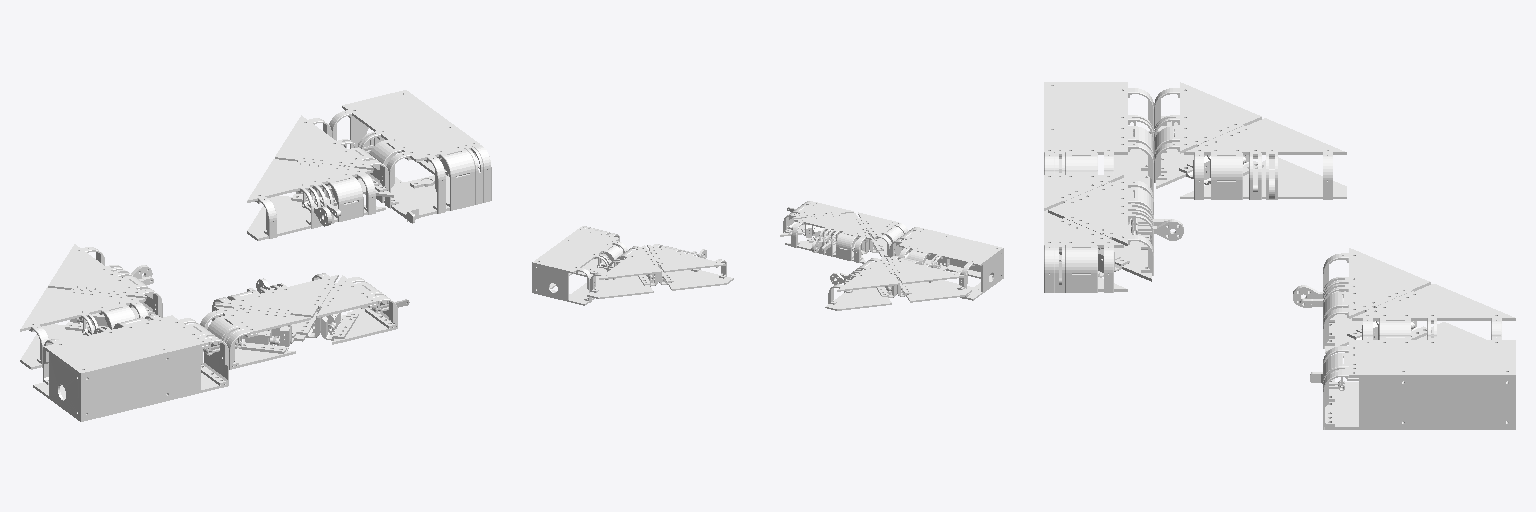
--- What the picture shows (computed from the rendered views, not written in the file) ---
Views: 3 orthographic renders of the robot side by side, from view 1: azimuth 30°, elevation 25°; view 2: azimuth 150°, elevation 25°; view 3: azimuth 270°, elevation 25°.
Robot: oscar — 23 links, 22 joints (22 continuous); root link base_link; default pose: every joint at zero.
Links seen in each view (by area): view 1: rectangle_link_2, rectangle_link_1, Big_triangle_link, Non_acut_triangle_4, Non_acut_triangle_3, Non_acut_triangle_2, Non_acut_triangle_1, Big_triangle_link_2, Big_triangle_link_3; view 2: rectangle_link_1, rectangle_link_2, Big_triangle_link_2, Big_triangle_link_3, Non_acut_triangle_1, Big_triangle_link, Non_acut_triangle_4, Non_acut_triangle_3, Non_acut_triangle_2; view 3: rectangle_link_1, rectangle_link_2, Big_triangle_link_3, Big_triangle_link_2, Non_acut_triangle_4, Big_triangle_link, Non_acut_triangle_1, Non_acut_triangle_2, Non_acut_triangle_3, link_pair_2, link_pair_1.
Boxes of the visible links, x1,y1,x2,y2 form: rectangle_link_2: [33, 314, 228, 421]; rectangle_link_1: [329, 90, 491, 223]; Big_triangle_link: [247, 159, 385, 240]; Non_acut_triangle_4: [20, 287, 147, 369]; Non_acut_triangle_3: [200, 306, 310, 369]; Non_acut_triangle_2: [317, 275, 397, 344]; Non_acut_triangle_1: [275, 115, 393, 197]; Big_triangle_link_2: [208, 273, 338, 343]; Big_triangle_link_3: [48, 244, 162, 318]; rectangle_link_1: [532, 226, 627, 305]; rectangle_link_2: [890, 227, 1003, 300]; Big_triangle_link_2: [785, 213, 871, 263]; Big_triangle_link_3: [825, 257, 899, 310]; Non_acut_triangle_1: [587, 245, 661, 298]; Big_triangle_link: [647, 244, 733, 290]; Non_acut_triangle_4: [886, 256, 971, 302]; Non_acut_triangle_3: [858, 212, 907, 260]; Non_acut_triangle_2: [780, 201, 853, 236]; rectangle_link_1: [1310, 335, 1515, 429]; rectangle_link_2: [1044, 82, 1153, 214]; Big_triangle_link_3: [1180, 118, 1346, 199]; Big_triangle_link_2: [1048, 176, 1153, 281]; Non_acut_triangle_4: [1154, 82, 1261, 188]; Big_triangle_link: [1323, 248, 1430, 353]; Non_acut_triangle_1: [1352, 284, 1515, 339]; Non_acut_triangle_2: [1044, 211, 1127, 292]; Non_acut_triangle_3: [1044, 170, 1123, 212]; link_pair_2: [1131, 219, 1183, 240]; link_pair_1: [1293, 285, 1343, 307].
Bounding box of the posed robot: 0.6665 × 0.4525 × 0.063 m (x, y, z).
Meshes: 23 distinct files referenced, 20 mesh visuals loaded (20 binary STL); not drawn: 3 (reference not matched to a file when rendering).

URDF robot description (oscar):
<?xml version="1.0" encoding="utf-8"?>
<!-- This URDF was automatically created by SolidWorks to URDF Exporter! Originally created by Stephen Brawner ([email redacted]) 
     Commit Version: 1.6.0-4-g7f85cfe  Build Version: 1.6.7995.38578
     For more information, please see http://wiki.ros.org/sw_urdf_exporter -->
<robot
  name="oscar">
  <link
    name="base_link">
    <inertial>
      <origin
        xyz="0.00196170680937007 -0.0309340370914813 0.0868228015469566"
        rpy="0 0 0" />
      <mass
        value="0.458411450979246" />
      <inertia
        ixx="0.000542871589384656"
        ixy="9.16830524623752E-08"
        ixz="-1.69749191833194E-07"
        iyy="0.00108671668484761"
        iyz="3.00802775983817E-06"
        izz="0.000657663684621468" />
    </inertial>
    <visual>
      <origin
        xyz="0 0 0"
        rpy="0 0 0" />
      <geometry>
        <mesh
          filename="package://oscar/meshes/base_link.STL" />
      </geometry>
      <material
        name="">
        <color
          rgba="1 1 1 1" />
      </material>
    </visual>
    <collision>
      <origin
        xyz="0 0 0"
        rpy="0 0 0" />
      <geometry>
        <mesh
          filename="package://oscar/meshes/base_link.STL" />
      </geometry>
    </collision>
  </link>
  
  <link
    name="right_wheel_link">
    <inertial>
      <origin
        xyz="-0.00784940612576867 4.28642898509662E-05 -9.31058257116688E-06"
        rpy="0 0 0" />
      <mass
        value="0.0274335863022573" />
      <inertia
        ixx="1.13862377406955E-05"
        ixy="-4.63211245290857E-15"
        ixz="9.35749929848442E-15"
        iyy="6.00789413976309E-06"
        iyz="-1.82633067451514E-08"
        izz="6.02049780409006E-06" />
    </inertial>
    <visual>
      <origin
        xyz="0 0 0"
        rpy="0 0 0" />
      <geometry>
        <mesh
          filename="package://oscar/meshes/right_wheel_link.STL" />
      </geometry>
      <material
        name="">
        <color
          rgba="1 1 1 1" />
      </material>
    </visual>
    <collision>
      <origin
        xyz="0 0 0"
        rpy="0 0 0" />
      <geometry>
        <mesh
          filename="package://oscar/meshes/right_wheel_link.STL" />
      </geometry>
    </collision>
  </link>
  <joint
    name="right_wheel_link_joint"
    type="continuous">
    <origin
      xyz="0.0586 -0.08 -0.035"
      rpy="2.7498 0 3.1416" />
    <parent
      link="base_link" />
    <child
      link="right_wheel_link" />
    <axis
      xyz="1 0 0" />
  </joint>
  <link
    name="left_wheel_link">
    <inertial>
      <origin
        xyz="-0.00784940612576874 4.28642898509315E-05 -9.31058257165607E-06"
        rpy="0 0 0" />
      <mass
        value="0.0274335863022572" />
      <inertia
        ixx="1.13862377406954E-05"
        ixy="-4.63212897840488E-15"
        ixz="9.3575734558632E-15"
        iyy="6.00789413976302E-06"
        iyz="-1.82633067450595E-08"
        izz="6.02049780409007E-06" />
    </inertial>
    <visual>
      <origin
        xyz="0 0 0"
        rpy="0 0 0" />
      <geometry>
        <mesh
          filename="package://oscar/meshes/left_wheel_link.STL" />
      </geometry>
      <material
        name="">
        <color
          rgba="1 1 1 1" />
      </material>
    </visual>
    <collision>
      <origin
        xyz="0 0 0"
        rpy="0 0 0" />
      <geometry>
        <mesh
          filename="package://oscar/meshes/left_wheel_link.STL" />
      </geometry>
    </collision>
  </link>
  <joint
    name="left_wheel_link_joint"
    type="continuous">
    <origin
      xyz="-0.0586 -0.08 -0.035"
      rpy="1.5708 0 0" />
    <parent
      link="base_link" />
    <child
      link="left_wheel_link" />
    <axis
      xyz="1 0 0" />
  </joint>
  <link
    name="link_pair_1">
    <inertial>
      <origin
        xyz="-0.00777707031504635 -0.00253046990606669 0.0559914509294892"
        rpy="0 0 0" />
      <mass
        value="0.00369780273035826" />
      <inertia
        ixx="6.11514536437227E-08"
        ixy="-1.60468334607999E-24"
        ixz="-3.76611431713986E-24"
        iyy="6.25046675936162E-07"
        iyz="-7.79660337318471E-25"
        izz="6.70790618203392E-07" />
    </inertial>
    <visual>
      <origin
        xyz="0 0 0"
        rpy="0 0 0" />
      <geometry>
        <mesh
          filename="package://oscar/meshes/link_pair_1.STL" />
      </geometry>
      <material
        name="">
        <color
          rgba="1 1 1 1" />
      </material>
    </visual>
    <collision>
      <origin
        xyz="0 0 0"
        rpy="0 0 0" />
      <geometry>
        <mesh
          filename="package://oscar/meshes/link_pair_1.STL" />
      </geometry>
    </collision>
  </link>
  <joint
    name="link_pair_1_joint"
    type="continuous">
    <origin
      xyz="0.107 -0.0215 -0.01547"
      rpy="1.5708 0 1.5708" />
    <parent
      link="base_link" />
    <child
      link="link_pair_1" />
    <axis
      xyz="0 0 1" />
  </joint>
  <link
    name="Big_triangle_link">
    <inertial>
      <origin
        xyz="0.0195755407568846 -0.00236613837658626 0.0660089523015064"
        rpy="0 0 0" />
      <mass
        value="0.074547880950281" />
      <inertia
        ixx="5.43833714550981E-05"
        ixy="-1.64485303519002E-06"
        ixz="1.46443358252426E-06"
        iyy="6.94150724784236E-05"
        iyz="-7.55460274979408E-07"
        izz="2.41737178555845E-05" />
    </inertial>
    <visual>
      <origin
        xyz="0 0 0"
        rpy="0 0 0" />
      <geometry>
        <mesh
          filename="package://oscar/meshes/Big_triangle_link.STL" />
      </geometry>
      <material
        name="">
        <color
          rgba="1 1 1 1" />
      </material>
    </visual>
    <collision>
      <origin
        xyz="0 0 0"
        rpy="0 0 0" />
      <geometry>
        <mesh
          filename="package://oscar/meshes/Big_triangle_link.STL" />
      </geometry>
    </collision>
  </link>
  <joint
    name="Big_triangle_link_joint"
    type="continuous">
    <origin
      xyz="0.016496 -0.0025305 0"
      rpy="0.0087266 0 0" />
    <parent
      link="link_pair_1" />
    <child
      link="Big_triangle_link" />
    <axis
      xyz="0 0.0087265 0.99996" />
  </joint>
  <link
    name="Link_1">
    <inertial>
      <origin
        xyz="0.00925000000000001 -1.11022302462516E-16 1.38777878078145E-17"
        rpy="0 0 0" />
      <mass
        value="0.000418829254091884" />
      <inertia
        ixx="1.72374656454096E-09"
        ixy="2.14126850100495E-22"
        ixz="1.83013710527357E-23"
        iyy="2.05758913679062E-08"
        iyz="-1.72606950474182E-25"
        izz="2.16713940513094E-08" />
    </inertial>
    <visual>
      <origin
        xyz="0 0 0"
        rpy="0 0 0" />
      <geometry>
        <mesh
          filename="package://oscar/meshes/Link_1.STL" />
      </geometry>
      <material
        name="">
        <color
          rgba="0.858823529411765 0.858823529411765 0.858823529411765 0.1" />
      </material>
    </visual>
    <collision>
      <origin
        xyz="0 0 0"
        rpy="0 0 0" />
      <geometry>
        <mesh
          filename="package://oscar/meshes/Link_1.STL" />
      </geometry>
    </collision>
  </link>
  <joint
    name="Link_1_joint"
    type="continuous">
    <origin
      xyz="0.051256 -0.011291 0.081264"
      rpy="-0.012341 -0.78536 0.0087263" />
    <parent
      link="Big_triangle_link" />
    <child
      link="Link_1" />
    <axis
      xyz="0 0 1" />
  </joint>
  <link
    name="Non_acut_triangle_1">
    <inertial>
      <origin
        xyz="0.0309192435459112 0.00878668880203192 -0.0148475592469523"
        rpy="0 0 0" />
      <mass
        value="0.0721297540054504" />
      <inertia
        ixx="5.39632726368139E-05"
        ixy="1.56283388931883E-06"
        ixz="-1.44322942163294E-06"
        iyy="6.91067908994079E-05"
        iyz="5.0215436817508E-08"
        izz="2.3503289928344E-05" />
    </inertial>
    <visual>
      <origin
        xyz="0 0 0"
        rpy="0 0 0" />
      <geometry>
        <mesh
          filename="package://oscar/meshes/Non_acut_triangle_1.STL" />
      </geometry>
      <material
        name="">
        <color
          rgba="1 1 1 1" />
      </material>
    </visual>
    <collision>
      <origin
        xyz="0 0 0"
        rpy="0 0 0" />
      <geometry>
        <mesh
          filename="package://oscar/meshes/Non_acut_triangle_1.STL" />
      </geometry>
    </collision>
  </link>
  <joint
    name="Non_acut_triangle_1_joint"
    type="continuous">
    <origin
      xyz="0.0185 0 0"
      rpy="-0.017452 -0.78528 0.01234" />
    <parent
      link="Link_1" />
    <child
      link="Non_acut_triangle_1" />
    <axis
      xyz="0.70703 -0.012341 0.70708" />
  </joint>
  <link
    name="link_4">
    <inertial>
      <origin
        xyz="0.01825 -2.23269701338236E-11 0.00150000000000047"
        rpy="0 0 0" />
      <mass
        value="0.000742829254091884" />
      <inertia
        ixx="2.93874656454096E-09"
        ixy="-1.39942092111541E-19"
        ixz="2.68517664114025E-22"
        iyy="1.08501881755647E-07"
        iyz="-2.71872069157362E-17"
        izz="1.1032638443905E-07" />
    </inertial>
    <visual>
      <origin
        xyz="0 0 0"
        rpy="0 0 0" />
      <geometry>
        <mesh
          filename="package://oscar/meshes/link_4.STL" />
      </geometry>
      <material
        name="">
        <color
          rgba="0.858823529411765 0.858823529411765 0.858823529411765 0.1" />
      </material>
    </visual>
    <collision>
      <origin
        xyz="0 0 0"
        rpy="0 0 0" />
      <geometry>
        <mesh
          filename="package://oscar/meshes/link_4.STL" />
      </geometry>
    </collision>
  </link>
  <joint
    name="link_4_joint"
    type="continuous">
    <origin
      xyz="0.05136 0.011736 -0.021057"
      rpy="-3.1329 0 -0.0087266" />
    <parent
      link="Non_acut_triangle_1" />
    <child
      link="link_4" />
    <axis
      xyz="0 0 1" />
  </joint>
  <link
    name="rectangle_link_1">
    <inertial>
      <origin
        xyz="-0.0451999417729934 -0.00990676293318141 0.011263644853522"
        rpy="0 0 0" />
      <mass
        value="0.164023892383727" />
      <inertia
        ixx="0.000289386199645965"
        ixy="-3.43537232454045E-06"
        ixz="-1.71295548901095E-06"
        iyy="9.4604969825702E-05"
        iyz="1.74658343347169E-06"
        izz="0.000341456068141042" />
    </inertial>
    <visual>
      <origin
        xyz="0 0 0"
        rpy="0 0 0" />
      <geometry>
        <mesh
          filename="package://oscar/meshes/rectangle_link_1.STL" />
      </geometry>
      <material
        name="">
        <color
          rgba="1 1 1 1" />
      </material>
    </visual>
    <collision>
      <origin
        xyz="0 0 0"
        rpy="0 0 0" />
      <geometry>
        <mesh
          filename="package://oscar/meshes/rectangle_link_1.STL" />
      </geometry>
    </collision>
  </link>
  <joint
    name="rectangle_link_1_joint"
    type="continuous">
    <origin
      xyz="0.0365 0 0"
      rpy="1.5708 0 3.1416" />
    <parent
      link="link_4" />
    <child
      link="rectangle_link_1" />
    <axis
      xyz="0 1 0" />
  </joint>
  <link
    name="link_pair_2">
    <inertial>
      <origin
        xyz="0.0122273760193164 -1.88078719265405E-14 0.00250854907051089"
        rpy="0 0 0" />
      <mass
        value="0.00369780273035827" />
      <inertia
        ixx="6.11514536437228E-08"
        ixy="8.67251503540343E-19"
        ixz="6.2865289778006E-23"
        iyy="6.25046675936164E-07"
        iyz="-5.00447724709524E-24"
        izz="6.70790618203394E-07" />
    </inertial>
    <visual>
      <origin
        xyz="0 0 0"
        rpy="0 0 0" />
      <geometry>
        <mesh
          filename="package://oscar/meshes/link_pair_2.STL" />
      </geometry>
      <material
        name="">
        <color
          rgba="1 1 1 1" />
      </material>
    </visual>
    <collision>
      <origin
        xyz="0 0 0"
        rpy="0 0 0" />
      <geometry>
        <mesh
          filename="package://oscar/meshes/link_pair_2.STL" />
      </geometry>
    </collision>
  </link>
  <joint
    name="link_pair_2_joint"
    type="continuous">
    <origin
      xyz="0 -0.167 -0.018"
      rpy="-1.5708 0 -1.5708" />
    <parent
      link="base_link" />
    <child
      link="link_pair_2" />
    <axis
      xyz="0 0 1" />
  </joint>
  <link
    name="Big_triangle_link_2">
    <inertial>
      <origin
        xyz="0.0223421497135244 0.00326069237224125 0.00268541721023781"
        rpy="0 0 0" />
      <mass
        value="0.0834635434624062" />
      <inertia
        ixx="4.56673953012276E-05"
        ixy="-6.35604825028415E-08"
        ixz="2.01812979626431E-06"
        iyy="2.18500355396937E-05"
        iyz="2.10494845425372E-21"
        izz="5.43856488817236E-05" />
    </inertial>
    <visual>
      <origin
        xyz="0 0 0"
        rpy="0 0 0" />
      <geometry>
        <mesh
          filename="package://oscar/meshes/Big_triangle_link_2.STL" />
      </geometry>
      <material
        name="">
        <color
          rgba="1 1 1 1" />
      </material>
    </visual>
    <collision>
      <origin
        xyz="0 0 0"
        rpy="0 0 0" />
      <geometry>
        <mesh
          filename="package://oscar/meshes/Big_triangle_link_2.STL" />
      </geometry>
    </collision>
  </link>
  <joint
    name="Big_triangle_link_2_joint"
    type="continuous">
    <origin
      xyz="0.0365 0 0"
      rpy="-1.5708 0 0" />
    <parent
      link="link_pair_2" />
    <child
      link="Big_triangle_link_2" />
    <axis
      xyz="0 1 0" />
  </joint>
  <link
    name="Link_2">
    <inertial>
      <origin
        xyz="0.00925000000000001 6.93889390390723E-18 0"
        rpy="0 0 0" />
      <mass
        value="0.000418829254091885" />
      <inertia
        ixx="1.72374656454097E-09"
        ixy="-1.07232666310546E-23"
        ixz="3.262193540756E-23"
        iyy="2.05758913679062E-08"
        iyz="5.20124388575456E-25"
        izz="2.16713940513094E-08" />
    </inertial>
    <visual>
      <origin
        xyz="0 0 0"
        rpy="0 0 0" />
      <geometry>
        <mesh
          filename="package://oscar/meshes/Link_2.STL" />
      </geometry>
      <material
        name="">
        <color
          rgba="0.858823529411765 0.858823529411765 0.858823529411765 0.1" />
      </material>
    </visual>
    <collision>
      <origin
        xyz="0 0 0"
        rpy="0 0 0" />
      <geometry>
        <mesh
          filename="package://oscar/meshes/Link_2.STL" />
      </geometry>
    </collision>
  </link>
  <joint
    name="Link_2_joint"
    type="continuous">
    <origin
      xyz="0.051256 -0.022663 0.012"
      rpy="-1.5708 0 -0.7854" />
    <parent
      link="Big_triangle_link_2" />
    <child
      link="Link_2" />
    <axis
      xyz="0 0 1" />
  </joint>
  <link
    name="Non_acut_triangle_2">
    <inertial>
      <origin
        xyz="-0.0328199233156058 -0.00838171459412362 0.0100577286903399"
        rpy="0 0 0" />
      <mass
        value="0.0478134415054504" />
      <inertia
        ixx="1.16931866407475E-05"
        ixy="-3.1676773406174E-06"
        ixz="-1.41779823992198E-06"
        iyy="1.22757737145985E-05"
        iyz="3.6055996039486E-07"
        izz="1.56922706277985E-05" />
    </inertial>
    <visual>
      <origin
        xyz="0 0 0"
        rpy="0 0 0" />
      <geometry>
        <mesh
          filename="package://oscar/meshes/Non_acut_triangle_2.STL" />
      </geometry>
      <material
        name="">
        <color
          rgba="1 1 1 1" />
      </material>
    </visual>
    <collision>
      <origin
        xyz="0 0 0"
        rpy="0 0 0" />
      <geometry>
        <mesh
          filename="package://oscar/meshes/Non_acut_triangle_2.STL" />
      </geometry>
    </collision>
  </link>
  <joint
    name="Non_acut_triangle_2_joint"
    type="continuous">
    <origin
      xyz="0.0185 0 0"
      rpy="1.5708 -0.7854 3.1416" />
    <parent
      link="Link_2" />
    <child
      link="Non_acut_triangle_2" />
    <axis
      xyz="0.70711 0.70711 0" />
  </joint>
  <link
    name="Link_5">
    <inertial>
      <origin
        xyz="0.01825 0 0.0015"
        rpy="0 0 0" />
      <mass
        value="0.000742829254091884" />
      <inertia
        ixx="2.93874656454096E-09"
        ixy="8.6646643288121E-25"
        ixz="-1.26290446256387E-24"
        iyy="1.08501881755647E-07"
        iyz="7.10258518665798E-27"
        izz="1.10326384439051E-07" />
    </inertial>
    <visual>
      <origin
        xyz="0 0 0"
        rpy="0 0 0" />
      <geometry>
        <mesh
          filename="package://oscar/meshes/Link_5.STL" />
      </geometry>
      <material
        name="">
        <color
          rgba="0.858823529411765 0.858823529411765 0.858823529411765 0.1" />
      </material>
    </visual>
    <collision>
      <origin
        xyz="0 0 0"
        rpy="0 0 0" />
      <geometry>
        <mesh
          filename="package://oscar/meshes/Link_5.STL" />
      </geometry>
    </collision>
  </link>
  <joint
    name="Link_5_joint"
    type="continuous">
    <origin
      xyz="-0.051256 0.0061628 0.012"
      rpy="1.5708 0 3.1416" />
    <parent
      link="Non_acut_triangle_2" />
    <child
      link="Link_5" />
    <axis
      xyz="0 0 1" />
  </joint>
  <link
    name="Link_2_1">
    <inertial>
      <origin
        xyz="-0.00924999999999998 0 0.01425"
        rpy="0 0 0" />
      <mass
        value="0.000418829254091883" />
      <inertia
        ixx="1.72374656454095E-09"
        ixy="-3.44375965656593E-24"
        ixz="-1.64402146744914E-23"
        iyy="2.05758913679062E-08"
        iyz="-9.86326119353998E-26"
        izz="2.16713940513093E-08" />
    </inertial>
    <visual>
      <origin
        xyz="0 0 0"
        rpy="0 0 0" />
      <geometry>
        <mesh
          filename="package://oscar/meshes/Link_2_1.STL" />
      </geometry>
      <material
        name="">
        <color
          rgba="0.858823529411765 0.858823529411765 0.858823529411765 0.1" />
      </material>
    </visual>
    <collision>
      <origin
        xyz="0 0 0"
        rpy="0 0 0" />
      <geometry>
        <mesh
          filename="package://oscar/meshes/Link_2_1.STL" />
      </geometry>
    </collision>
  </link>
  <joint
    name="Link_2_1_joint"
    type="continuous">
    <origin
      xyz="0.041179 0.032739 0.012"
      rpy="-1.5708 0 -2.3562" />
    <parent
      link="Big_triangle_link_2" />
    <child
      link="Link_2_1" />
    <axis
      xyz="0 0 1" />
  </joint>
  <link
    name="Non_acut_triangle_3">
    <inertial>
      <origin
        xyz="-0.0227436516836972 0.00169455703778493 -0.0100577286903399"
        rpy="0 0 0" />
      <mass
        value="0.0478134415054504" />
      <inertia
        ixx="1.16931866407475E-05"
        ixy="-3.1676773406174E-06"
        ixz="1.41779823992197E-06"
        iyy="1.22757737145985E-05"
        iyz="-3.60559960394856E-07"
        izz="1.56922706277985E-05" />
    </inertial>
    <visual>
      <origin
        xyz="0 0 0"
        rpy="0 0 0" />
      <geometry>
        <mesh
          filename="package://oscar/meshes/Non_acut_triangle_3.STL" />
      </geometry>
      <material
        name="">
        <color
          rgba="1 1 1 1" />
      </material>
    </visual>
    <collision>
      <origin
        xyz="0 0 0"
        rpy="0 0 0" />
      <geometry>
        <mesh
          filename="package://oscar/meshes/Non_acut_triangle_3.STL" />
      </geometry>
    </collision>
  </link>
  <joint
    name="Non_acut_triangle_3_joint"
    type="continuous">
    <origin
      xyz="-0.0185 0 0"
      rpy="1.5708 -0.7854 0" />
    <parent
      link="Link_2_1" />
    <child
      link="Non_acut_triangle_3" />
    <axis
      xyz="0.70711 0.70711 0" />
  </joint>
  <link
    name="Link_6">
    <inertial>
      <origin
        xyz="-0.01825 0 0.0015"
        rpy="0 0 0" />
      <mass
        value="0.000742829254091884" />
      <inertia
        ixx="2.93874656454096E-09"
        ixy="8.6646643288121E-25"
        ixz="-1.26290446256387E-24"
        iyy="1.08501881755647E-07"
        iyz="7.10258518665798E-27"
        izz="1.10326384439051E-07" />
    </inertial>
    <visual>
      <origin
        xyz="0 0 0"
        rpy="0 0 0" />
      <geometry>
        <mesh
          filename="package://oscar/meshes/Link_6.STL" />
      </geometry>
      <material
        name="">
        <color
          rgba="0.858823529411765 0.858823529411765 0.858823529411765 0.1" />
      </material>
    </visual>
    <collision>
      <origin
        xyz="0 0 0"
        rpy="0 0 0" />
      <geometry>
        <mesh
          filename="package://oscar/meshes/Link_6.STL" />
      </geometry>
    </collision>
  </link>
  <joint
    name="Link_6_joint"
    type="continuous">
    <origin
      xyz="-0.041179 0.016239 -0.012"
      rpy="-1.5708 0 0" />
    <parent
      link="Non_acut_triangle_3" />
    <child
      link="Link_6" />
    <axis
      xyz="0 0 1" />
  </joint>
  <link
    name="link_pair_3">
    <inertial>
      <origin
        xyz="-0.00777707031504622 -0.00253046990606668 0.0559914509294892"
        rpy="0 0 0" />
      <mass
        value="0.00369780273035826" />
      <inertia
        ixx="6.11514536437226E-08"
        ixy="5.79870942950616E-23"
        ixz="1.37932730814381E-21"
        iyy="6.25046675936162E-07"
        iyz="5.08689148136436E-24"
        izz="6.70790618203392E-07" />
    </inertial>
    <visual>
      <origin
        xyz="0 0 0"
        rpy="0 0 0" />
      <geometry>
        <mesh
          filename="package://oscar/meshes/link_pair_3.STL" />
      </geometry>
      <material
        name="">
        <color
          rgba="1 1 1 1" />
      </material>
    </visual>
    <collision>
      <origin
        xyz="0 0 0"
        rpy="0 0 0" />
      <geometry>
        <mesh
          filename="package://oscar/meshes/link_pair_3.STL" />
      </geometry>
    </collision>
  </link>
  <joint
    name="link_pair_3_joint"
    type="continuous">
    <origin
      xyz="-0.107 -0.0215 -0.02053"
      rpy="-1.5708 0 3.1416" />
    <parent
      link="base_link" />
    <child
      link="link_pair_3" />
    <axis
      xyz="0 0 1" />
  </joint>
  <link
    name="Big_triangle_link_3">
    <inertial>
      <origin
        xyz="-0.0196054935263451 -0.00334683246821463 0.0659576040097147"
        rpy="0 0 0" />
      <mass
        value="0.074547880950281" />
      <inertia
        ixx="5.44136654321586E-05"
        ixy="1.80118553221312E-06"
        ixz="-1.43514860815111E-06"
        iyy="6.9397363779311E-05"
        iyz="4.69758482172751E-08"
        izz="2.41611325776369E-05" />
    </inertial>
    <visual>
      <origin
        xyz="0 0 0"
        rpy="0 0 0" />
      <geometry>
        <mesh
          filename="package://oscar/meshes/Big_triangle_link_3.STL" />
      </geometry>
      <material
        name="">
        <color
          rgba="1 1 1 1" />
      </material>
    </visual>
    <collision>
      <origin
        xyz="0 0 0"
        rpy="0 0 0" />
      <geometry>
        <mesh
          filename="package://oscar/meshes/Big_triangle_link_3.STL" />
      </geometry>
    </collision>
  </link>
  <joint
    name="Big_triangle_link_3_joint"
    type="continuous">
    <origin
      xyz="0.016496 -0.0025305 0"
      rpy="-0.0087263 7.6152E-05 -3.1329" />
    <parent
      link="link_pair_3" />
    <child
      link="Big_triangle_link_3" />
    <axis
      xyz="7.6152E-05 0.0087262 -0.99996" />
  </joint>
  <link
    name="Link_3">
    <inertial>
      <origin
        xyz="0.00925000000000006 1.04083408558608E-17 0.01425"
        rpy="0 0 0" />
      <mass
        value="0.000418829254091883" />
      <inertia
        ixx="1.72374656454095E-09"
        ixy="-1.45897428116002E-23"
        ixz="1.13737334226041E-24"
        iyy="2.05758913679061E-08"
        iyz="2.40999549744314E-25"
        izz="2.16713940513093E-08" />
    </inertial>
    <visual>
      <origin
        xyz="0 0 0"
        rpy="0 0 0" />
      <geometry>
        <mesh
          filename="package://oscar/meshes/Link_3.STL" />
      </geometry>
      <material
        name="">
        <color
          rgba="0.858823529411765 0.858823529411765 0.858823529411765 0.1" />
      </material>
    </visual>
    <collision>
      <origin
        xyz="0 0 0"
        rpy="0 0 0" />
      <geometry>
        <mesh
          filename="package://oscar/meshes/Link_3.STL" />
      </geometry>
    </collision>
  </link>
  <joint
    name="Link_3_joint"
    type="continuous">
    <origin
      xyz="-0.06144 -0.012084 0.070979"
      rpy="-0.012341 -0.78536 3.1416" />
    <parent
      link="Big_triangle_link_3" />
    <child
      link="Link_3" />
    <axis
      xyz="0 0 1" />
  </joint>
  <link
    name="Non_acut_triangle_4">
    <inertial>
      <origin
        xyz="-0.0409176605160228 0.00888359811286343 -0.0049274619298024"
        rpy="0 0 0" />
      <mass
        value="0.0721297540054504" />
      <inertia
        ixx="5.39371506401738E-05"
        ixy="-1.4050380646756E-06"
        ixz="1.46835760801126E-06"
        iyy="6.91203276181001E-05"
        iyz="-7.5862922272015E-07"
        izz="2.35158752062916E-05" />
    </inertial>
    <visual>
      <origin
        xyz="0 0 0"
        rpy="0 0 0" />
      <geometry>
        <mesh
          filename="package://oscar/meshes/Non_acut_triangle_4.STL" />
      </geometry>
      <material
        name="">
        <color
          rgba="1 1 1 1" />
      </material>
    </visual>
    <collision>
      <origin
        xyz="0 0 0"
        rpy="0 0 0" />
      <geometry>
        <mesh
          filename="package://oscar/meshes/Non_acut_triangle_4.STL" />
      </geometry>
    </collision>
  </link>
  <joint
    name="Non_acut_triangle_4_joint"
    type="continuous">
    <origin
      xyz="0.0185 0 0"
      rpy="0.0087266 0.7854 3.1416" />
    <parent
      link="Link_3" />
    <child
      link="Non_acut_triangle_4" />
    <axis
      xyz="0.70711 -0.0061706 -0.70708" />
  </joint>
  <link
    name="Link_7">
    <inertial>
      <origin
        xyz="-0.018249999999999 -3.26752513934991E-14 -0.00150000000000017"
        rpy="0 0 0" />
      <mass
        value="0.000742829254091885" />
      <inertia
        ixx="2.93874656454096E-09"
        ixy="1.71373241277348E-19"
        ixz="-1.85705721375074E-22"
        iyy="1.08501881755647E-07"
        iyz="-3.09911826774865E-25"
        izz="1.1032638443905E-07" />
    </inertial>
    <visual>
      <origin
        xyz="0 0 0"
        rpy="0 0 0" />
      <geometry>
        <mesh
          filename="package://oscar/meshes/Link_7.STL" />
      </geometry>
      <material
        name="">
        <color
          rgba="0.858823529411765 0.858823529411765 0.858823529411765 0.1" />
      </material>
    </visual>
    <collision>
      <origin
        xyz="0 0 0"
        rpy="0 0 0" />
      <geometry>
        <mesh
          filename="package://oscar/meshes/Link_7.STL" />
      </geometry>
    </collision>
  </link>
  <joint
    name="Link_7_joint"
    type="continuous">
    <origin
      xyz="-0.061332 0.011903 -0.011191"
      rpy="-0.0087266 0 0" />
    <parent
      link="Non_acut_triangle_4" />
    <child
      link="Link_7" />
    <axis
      xyz="0 0 1" />
  </joint>
  <link
    name="rectangle_link_2">
    <inertial>
      <origin
        xyz="-0.0451999517612542 0.0099067579390513 0.0112636448535167"
        rpy="0 0 0" />
      <mass
        value="0.164023892383727" />
      <inertia
        ixx="0.000289386199645965"
        ixy="3.4353723244694E-06"
        ixz="-1.71294995482485E-06"
        iyy="9.46049698257021E-05"
        iyz="-1.74658343347196E-06"
        izz="0.000341456068141042" />
    </inertial>
    <visual>
      <origin
        xyz="0 0 0"
        rpy="0 0 0" />
      <geometry>
        <mesh
          filename="package://oscar/meshes/rectangle_link_2.STL" />
      </geometry>
      <material
        name="">
        <color
          rgba="1 1 1 1" />
      </material>
    </visual>
    <collision>
      <origin
        xyz="0 0 0"
        rpy="0 0 0" />
      <geometry>
        <mesh
          filename="package://oscar/meshes/rectangle_link_2.STL" />
      </geometry>
    </collision>
  </link>
  <joint
    name="rectangle_link_2_joint"
    type="continuous">
    <origin
      xyz="-0.0365 0 0"
      rpy="1.5708 0 0" />
    <parent
      link="Link_7" />
    <child
      link="rectangle_link_2" />
    <axis
      xyz="0 1 0" />
  </joint>
</robot>
